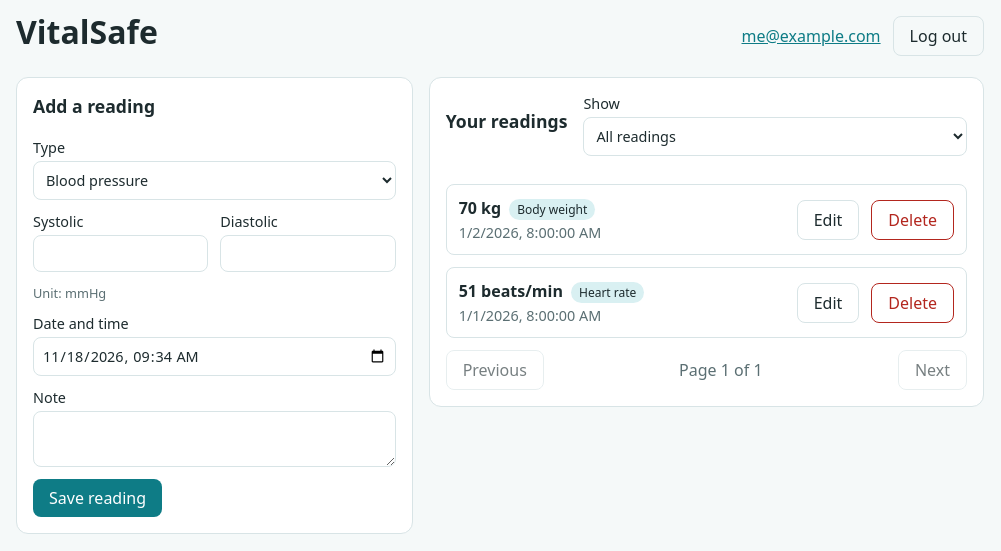
it: DashboardPage › filters by type and goes back to the first page
Expected: the text "70 kg" is shown, [459,197,501,219]
Select "Body weight" in the dropdown labelled "Show" at (775, 136), box [583,117,967,156]
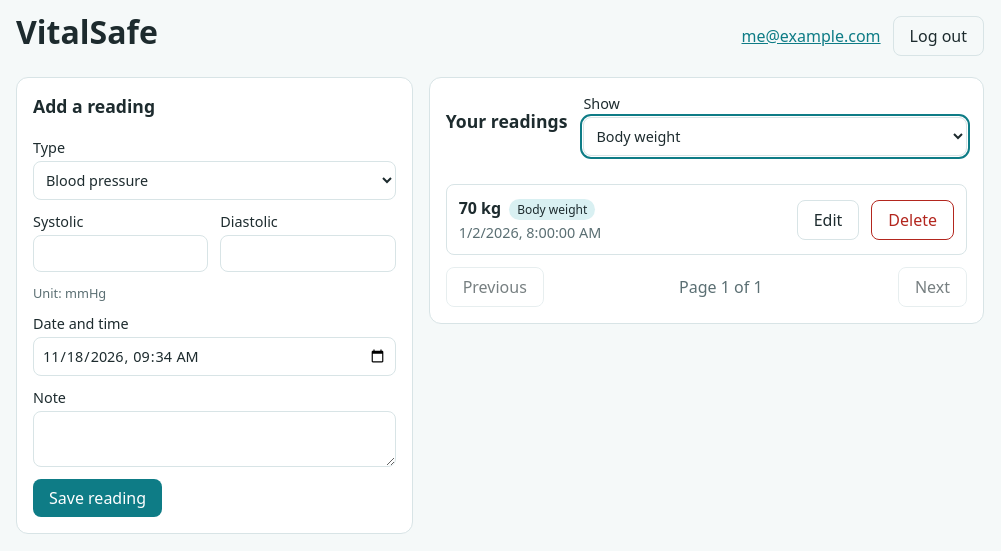
Expected: the text "70 kg" is shown, [459,197,501,219]
Expected: the text "51 beats/min" is gone
